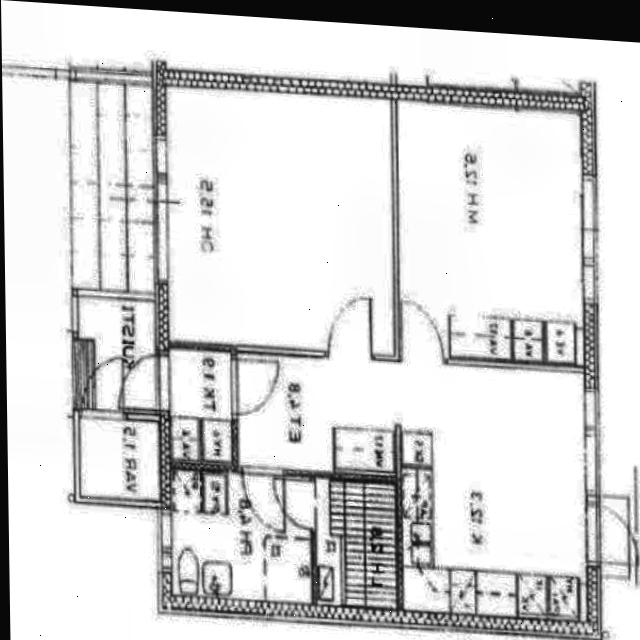room: (164, 82, 394, 359), (394, 96, 585, 371), (162, 469, 320, 604), (315, 478, 396, 611), (75, 418, 164, 502), (169, 348, 230, 463)
